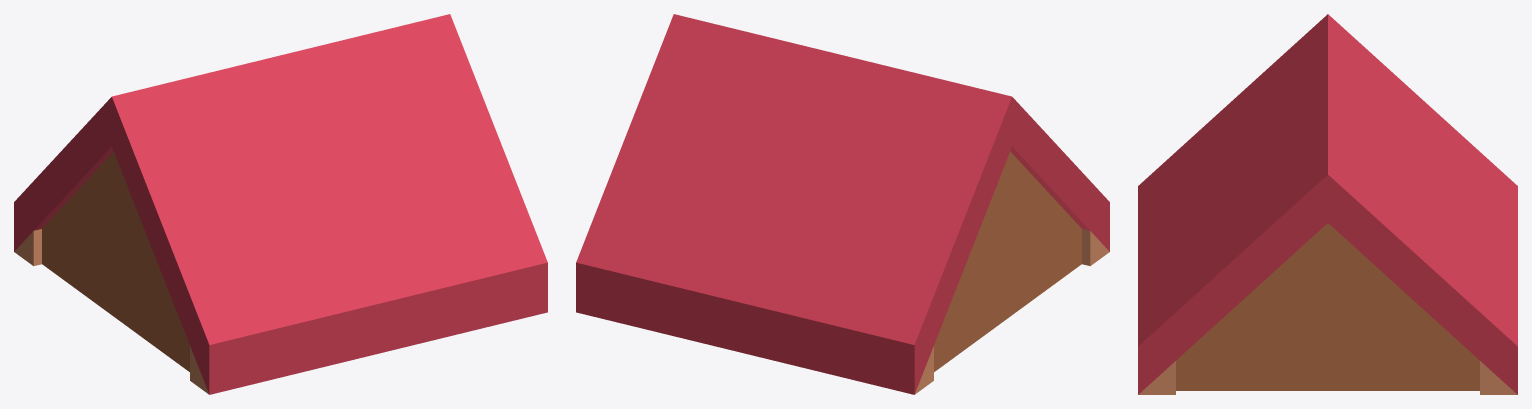
The model's file is roofHighGableTop.obj.
3 renders of one model, left to right at view 1: azimuth 30°, elevation 25°; view 2: azimuth 150°, elevation 25°; view 3: azimuth 270°, elevation 25°, orthographic. The views are drawn at different scales.
Parts seen in each view (by area): view 1: roofHighGableTop; view 2: roofHighGableTop; view 3: roofHighGableTop.
Part boxes in pixels (x1,y1,x2,y2): roofHighGableTop: (14,14,547,394); roofHighGableTop: (576,14,1109,394); roofHighGableTop: (1138,14,1517,394).
Size of the model in its own units: 1 by 0.6407 by 1.
